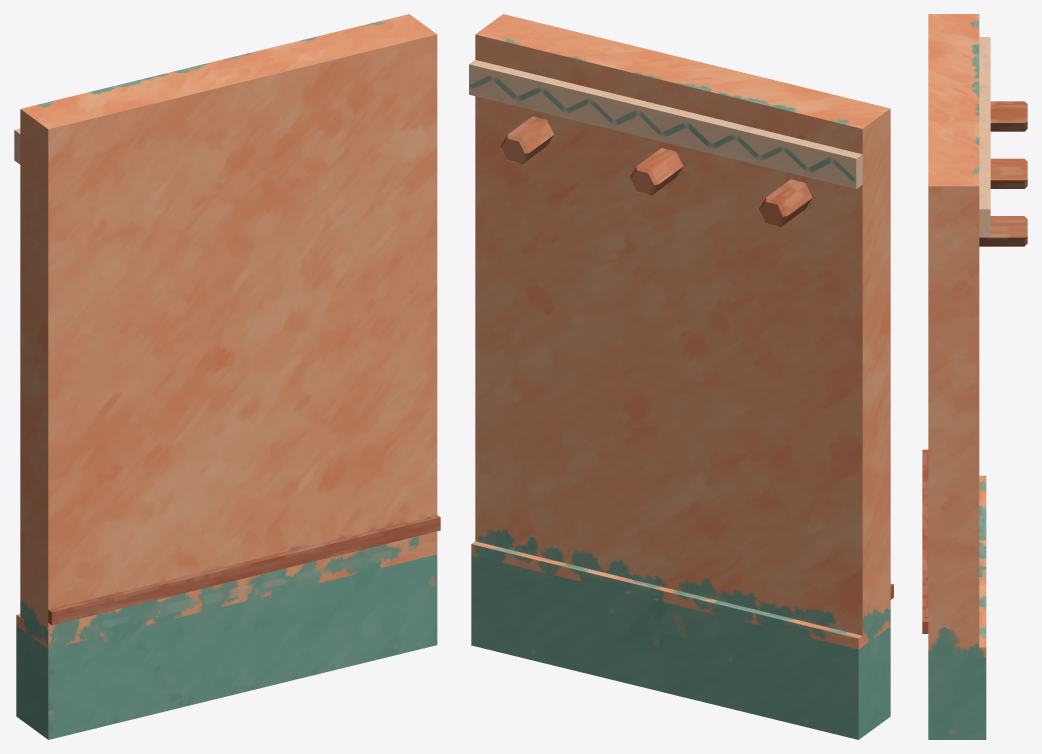
The model's file is wall2_plain_low.fbx.
3 views of the same model, side by side, from view 1: azimuth 30°, elevation 25°; view 2: azimuth 150°, elevation 25°; view 3: azimuth 270°, elevation 25° (orthographic). The views are drawn at different scales.
Visible parts, largest first — view 1: wall2_plain; view 2: wall2_plain; view 3: wall2_plain.
Part boxes in pixels (left/top/right/bottom): wall2_plain: left=14, top=14, right=440, bottom=739; wall2_plain: left=469, top=14, right=893, bottom=739; wall2_plain: left=922, top=14, right=1027, bottom=739.
Bounding box in the file's own units: 8 × 12 × 2.07.
Materials: 1 (1 with a texture image).
